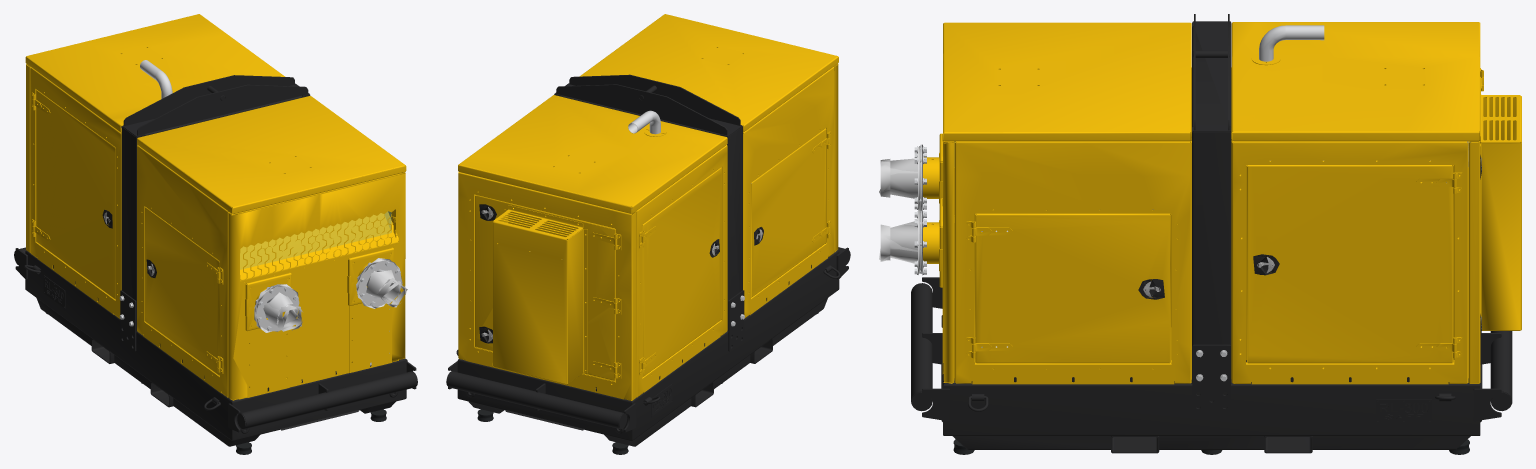
Rendered from rl300-lite.glb.
3 views of the same model, side by side, from view 1: azimuth 30°, elevation 25°; view 2: azimuth 150°, elevation 25°; view 3: azimuth 270°, elevation 25° (orthographic). The views are drawn at different scales.
Visible parts, largest first — view 1: G2RL300-SAF-1003-2, G2RL300-SAF-1005-3, G2RL300-SAF-1006-2, G2RL300-SAF-2011-14, MirrorG2RL300-SAF-1001-6, G2RL300-SAF-1011-12, V2RL300-FTS-2004-SAFE-1, MirrorG2RL300-SAF-2002-5, GRRL200-SAF-1172-1, V2RL300-FTS-2002-SAFE-2, G2RL200-LBA-SAF-2000-3/G2RL200-SAF-1033-1, V2SKF-TB-5500-03-2 (+16 smaller); view 2: G2RL300-SAF-1006-2, G2RL200-SAF-2027-1, G2RL300-SAF-1005-3, G2RL300-SAF-2011-14, G2RL200-SAF-1004-2, G2RL300-SAF-1011-12, MirrorG2RL300-SAF-1001-6, V2RL300-FTS-2004-SAFE-1, V2RL300-SAF-1021-6, MirrorG2RL300-SAF-2002-5, V2RL300-FTS-2002-SAFE-1, G2RL200-LBA-SAF-2000-3/G2RL200-SAF-1033-2 (+9 smaller); view 3: G2RL300-SAF-2011-10, G2RL300-SAF-1005-3, G2RL300-SAF-1011-8, G2RL300-SAF-1006-2, G2RL300-SAF-1001-4, V2RL300-FTS-2003-SAFE-1, G2RL300-SAF-2002-3, G2RL200-SAF-2027-1, G2RL200-LBA-SAF-2000-3/G2RL200-SAF-1040-1, G2RL200-LBA-SAF-2000-3/G2RL200-SAF-1041-1, G2RL200-SAF-1004-2, G2RL300-SAF-1003-2 (+18 smaller).
Boxes of the visible parts, left/top/right/bottom form: G2RL300-SAF-1003-2: left=228, top=172, right=405, bottom=400; G2RL300-SAF-1005-3: left=137, top=96, right=406, bottom=214; G2RL300-SAF-1006-2: left=25, top=14, right=285, bottom=132; G2RL300-SAF-2011-14: left=36, top=90, right=115, bottom=299; MirrorG2RL300-SAF-1001-6: left=137, top=145, right=237, bottom=397; G2RL300-SAF-1011-12: left=145, top=207, right=219, bottom=375; V2RL300-FTS-2004-SAFE-1: left=25, top=250, right=232, bottom=440; MirrorG2RL300-SAF-2002-5: left=30, top=67, right=121, bottom=318; GRRL200-SAF-1172-1: left=232, top=208, right=398, bottom=281; V2RL300-FTS-2002-SAFE-2: left=232, top=359, right=406, bottom=441; G2RL200-LBA-SAF-2000-3/G2RL200-SAF-1033-1: left=137, top=84, right=308, bottom=135; V2SKF-TB-5500-03-2: left=240, top=371, right=417, bottom=428; G2RL300-SAF-1006-2: left=458, top=95, right=727, bottom=213; G2RL200-SAF-2027-1: left=493, top=205, right=587, bottom=384; G2RL300-SAF-1005-3: left=579, top=14, right=838, bottom=132; G2RL300-SAF-2011-14: left=642, top=167, right=721, bottom=377; G2RL200-SAF-1004-2: left=458, top=172, right=635, bottom=400; G2RL300-SAF-1011-12: left=751, top=128, right=826, bottom=297; MirrorG2RL300-SAF-1001-6: left=743, top=67, right=834, bottom=317; V2RL300-FTS-2004-SAFE-1: left=632, top=250, right=839, bottom=440; V2RL300-SAF-1021-6: left=475, top=194, right=615, bottom=381; MirrorG2RL300-SAF-2002-5: left=631, top=145, right=727, bottom=397; V2RL300-FTS-2002-SAFE-1: left=457, top=359, right=632, bottom=441; G2RL200-LBA-SAF-2000-3/G2RL200-SAF-1033-2: left=556, top=84, right=727, bottom=135; G2RL300-SAF-2011-10: left=1246, top=165, right=1453, bottom=363; G2RL300-SAF-1005-3: left=943, top=22, right=1191, bottom=141; G2RL300-SAF-1011-8: left=975, top=213, right=1171, bottom=363; G2RL300-SAF-1006-2: left=1231, top=22, right=1480, bottom=141; G2RL300-SAF-1001-4: left=954, top=139, right=1191, bottom=384; V2RL300-FTS-2003-SAFE-1: left=943, top=360, right=1480, bottom=435; G2RL300-SAF-2002-3: left=1231, top=139, right=1468, bottom=384; G2RL200-SAF-2027-1: left=1480, top=88, right=1521, bottom=330; G2RL200-LBA-SAF-2000-3/G2RL200-SAF-1040-1: left=1192, top=127, right=1231, bottom=383; G2RL200-LBA-SAF-2000-3/G2RL200-SAF-1041-1: left=1192, top=21, right=1231, bottom=132; G2RL200-SAF-1004-2: left=1469, top=141, right=1480, bottom=383; G2RL300-SAF-1003-2: left=943, top=140, right=954, bottom=383.
Bounding box in the file's own units: 1.59 × 2.11 × 3.37.
